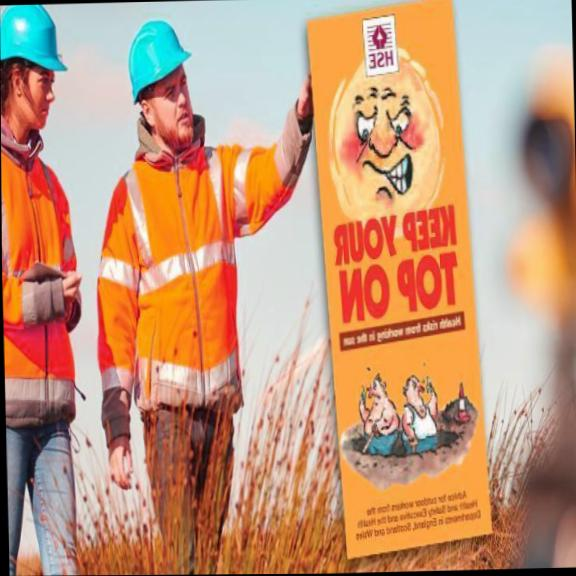safety_vest: (108, 122, 244, 463), (1, 139, 76, 447)
